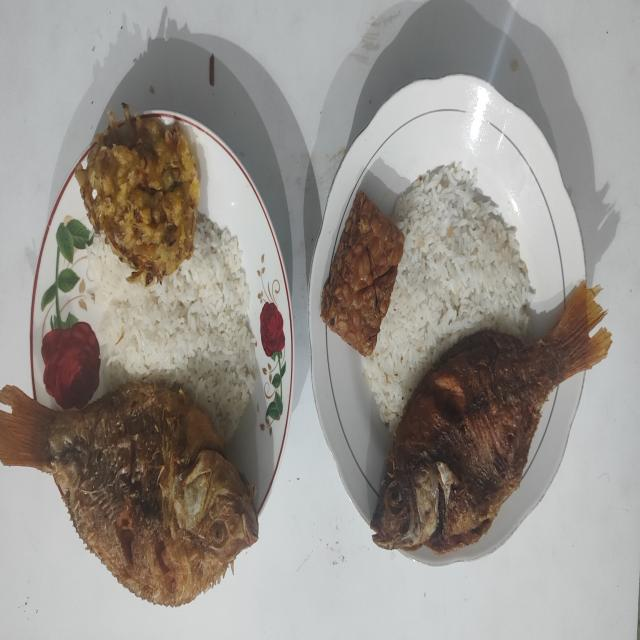ikan_mujair: (372, 285, 612, 553), (0, 381, 258, 605)
nasi_putih: (362, 162, 534, 428), (89, 214, 257, 438)
tempe_goreng: (320, 190, 404, 357)
